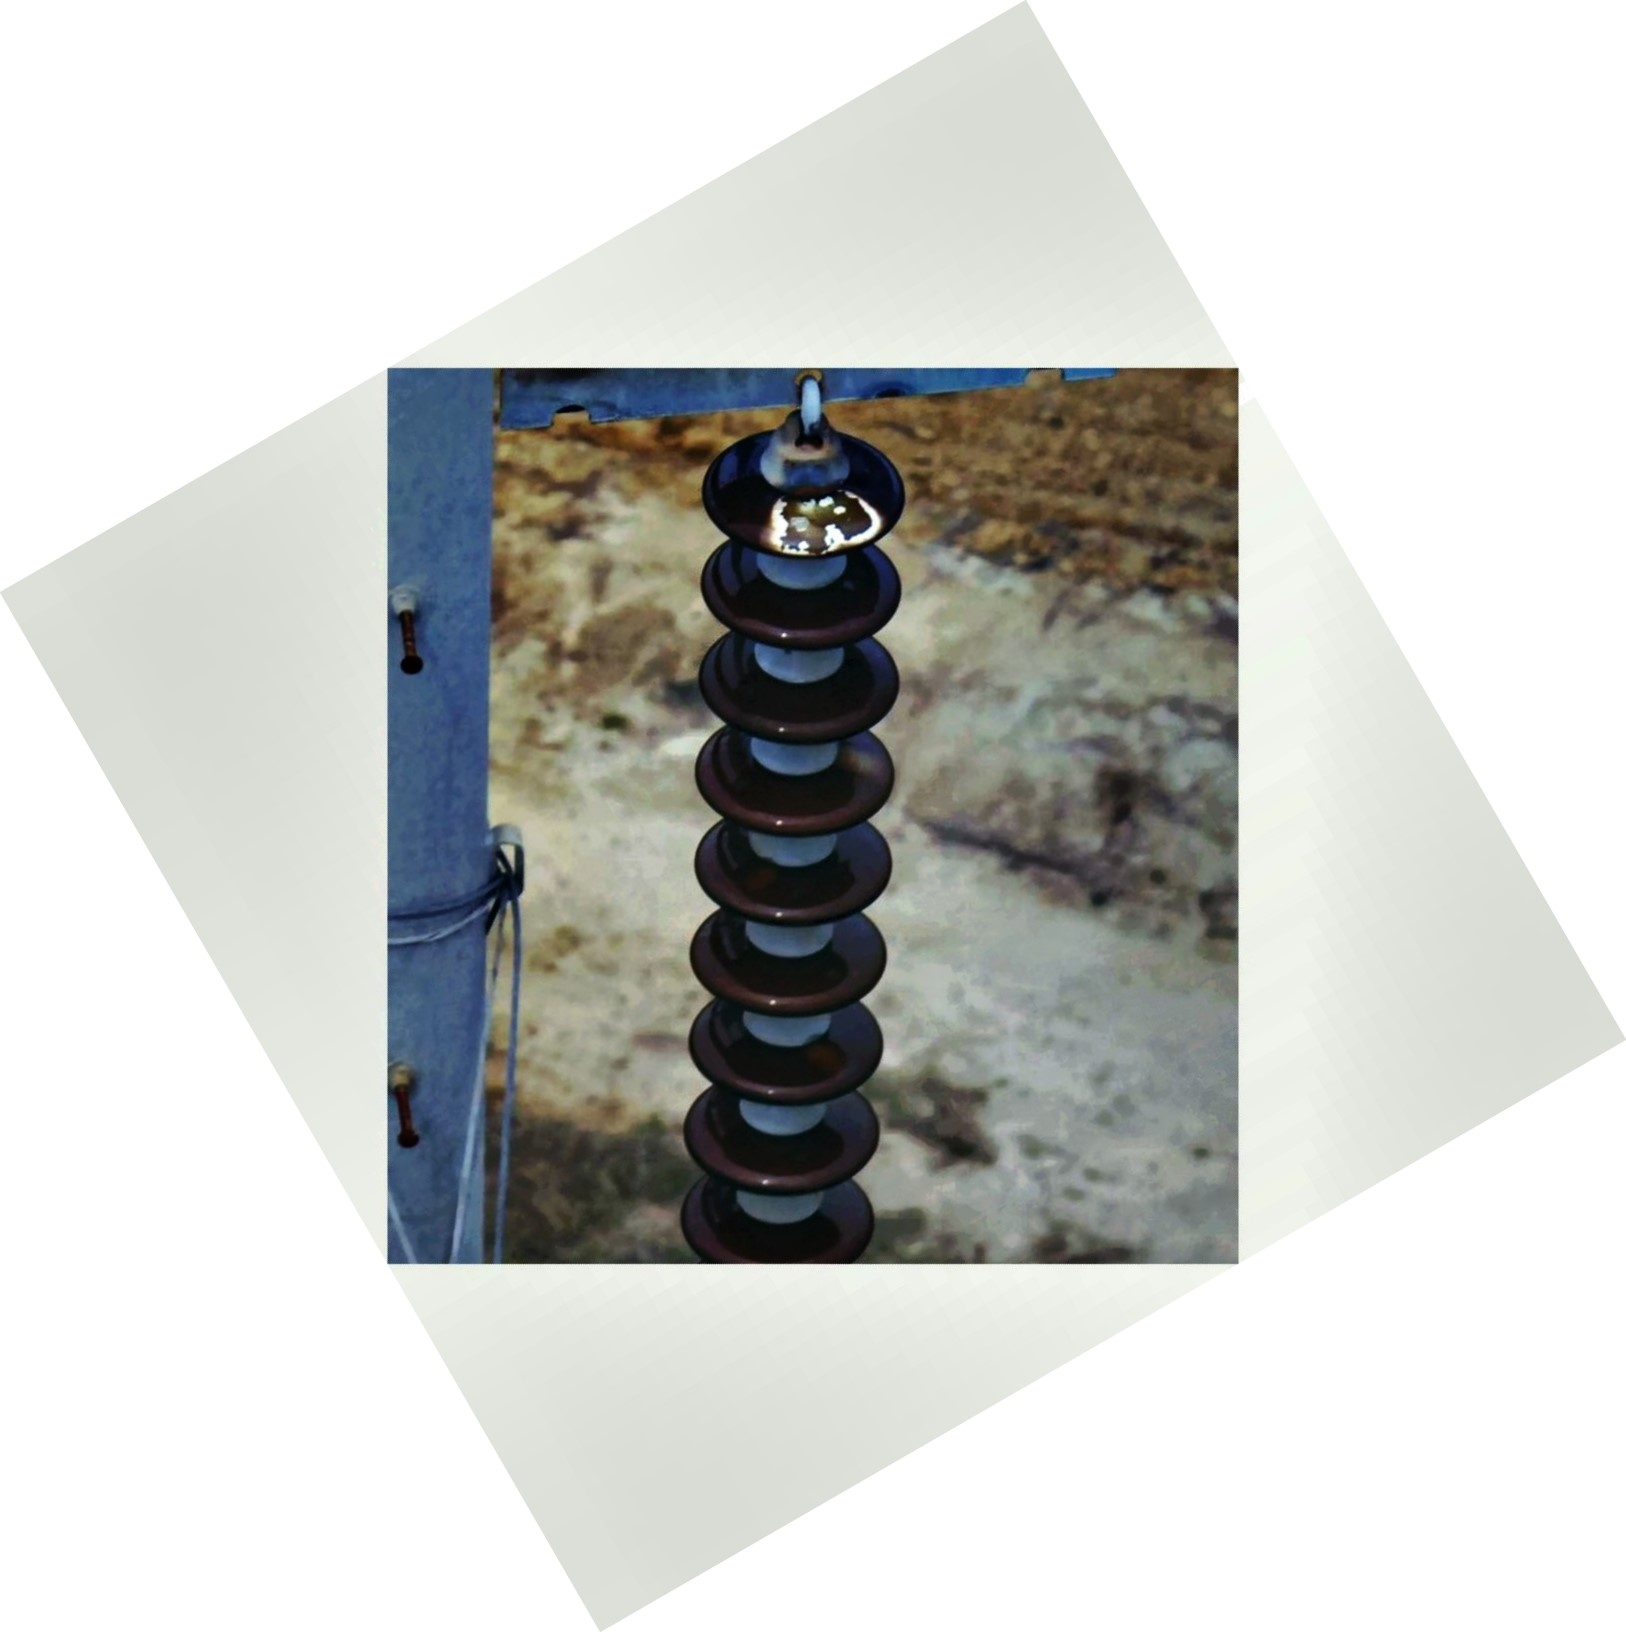Insulator flashover: (692, 417, 919, 576)
